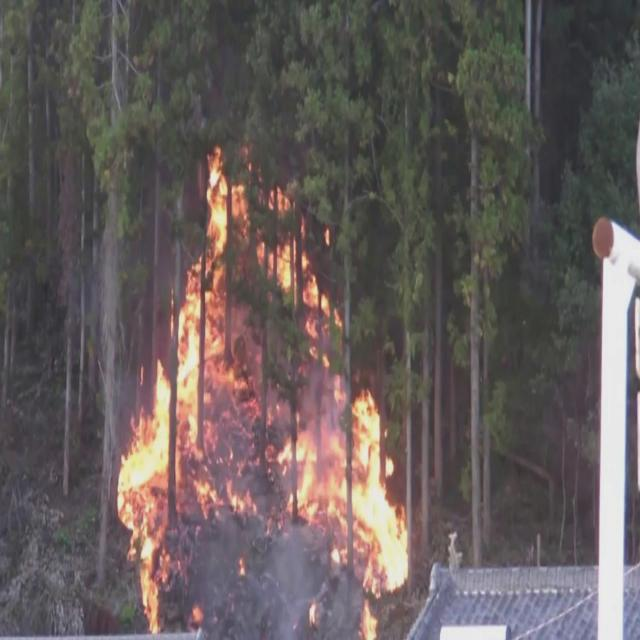Fire: (118, 143, 230, 633), (271, 375, 409, 597), (233, 154, 343, 367), (226, 480, 257, 516), (360, 600, 380, 640)
